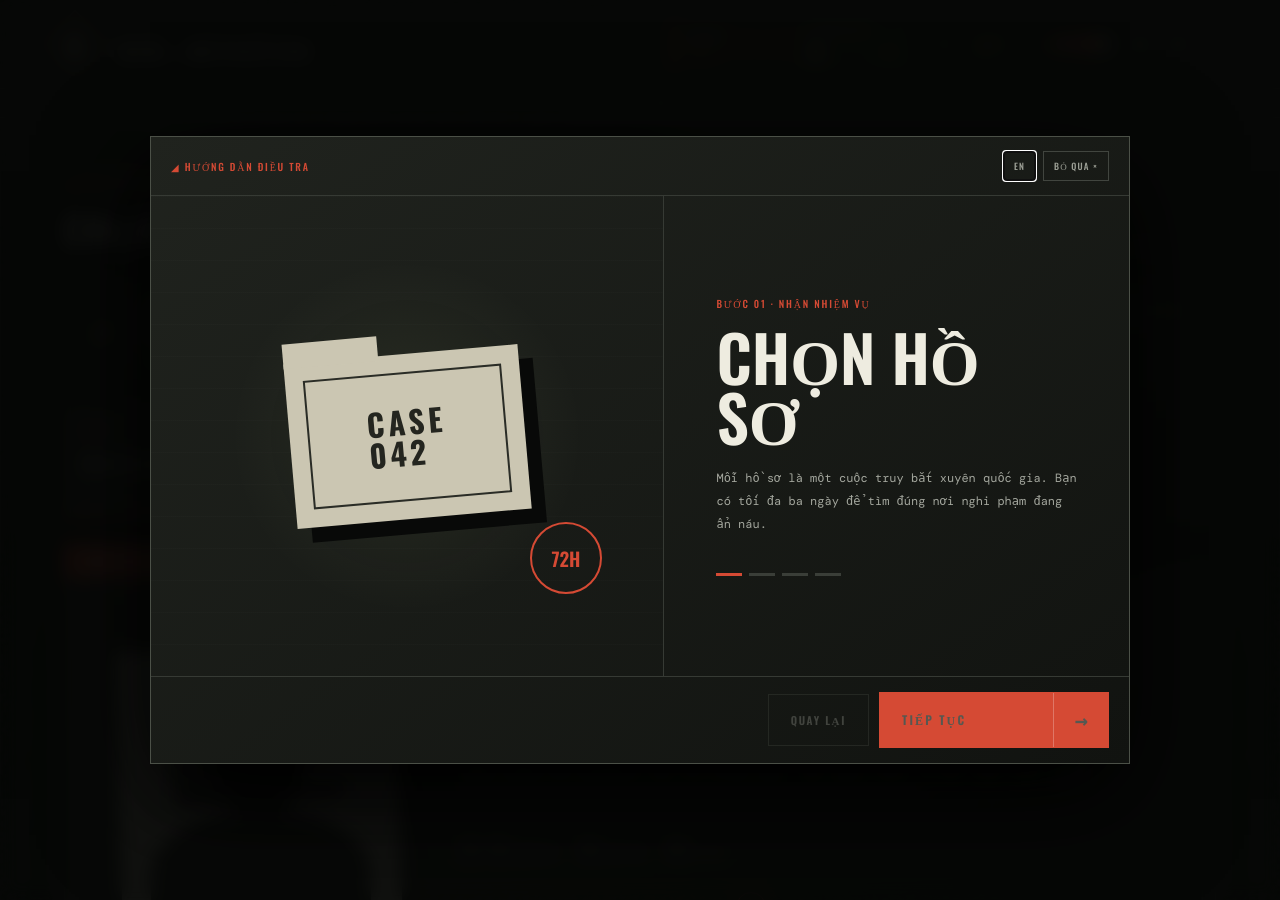
App onboarding and evidence focus › opens onboarding on the first visit and stores completion separately
Expected: the dialog "CHỌN HỒ SƠ" is shown, [150,136,1130,764]
Click the button "BỎ QUA ×" at x=1076, y=166, box [1043,151,1109,181]
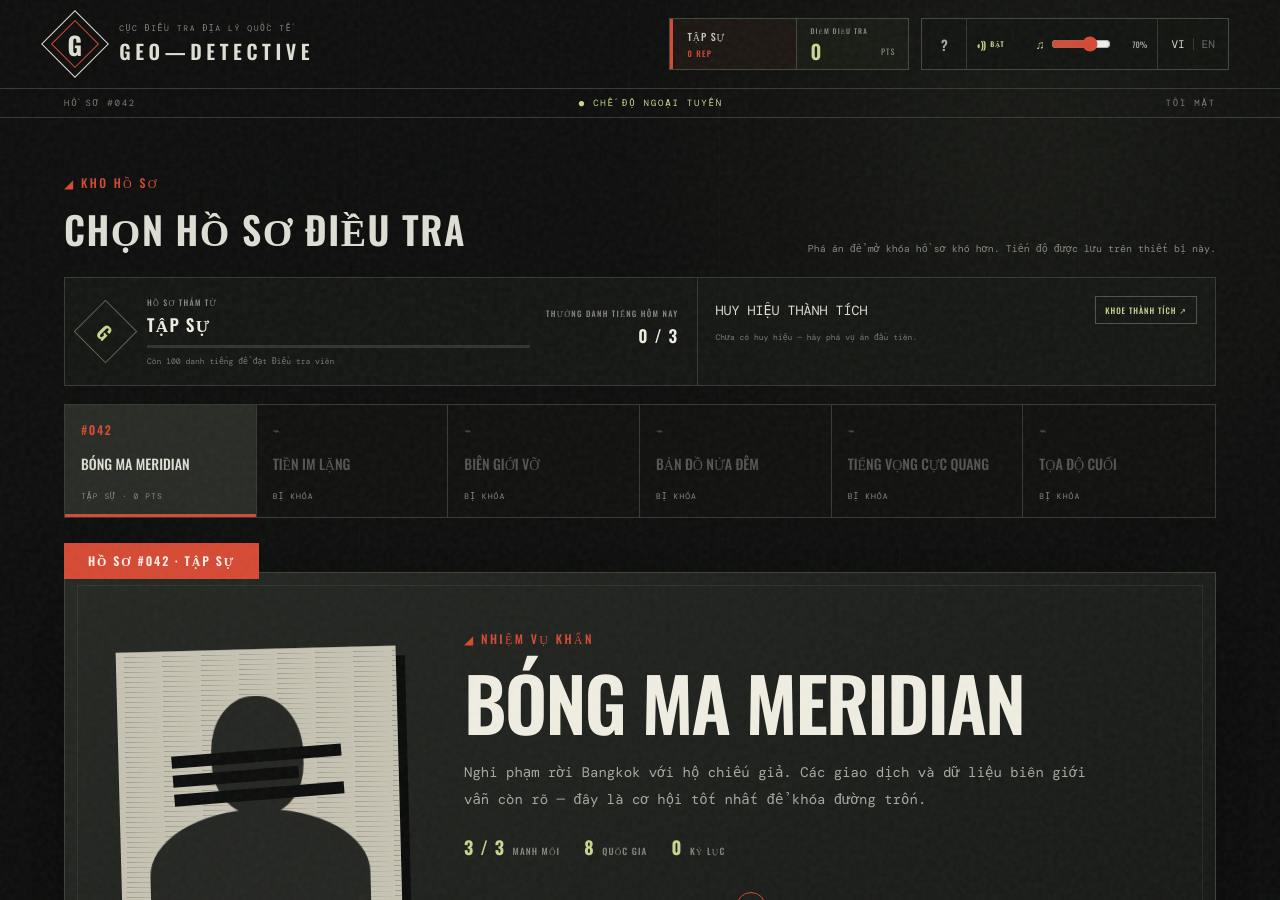
Expected: the dialog is gone
